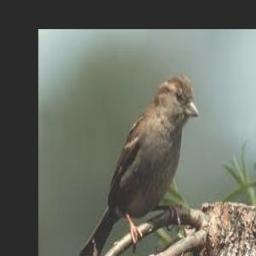Sparrow: (79, 72, 199, 256)
